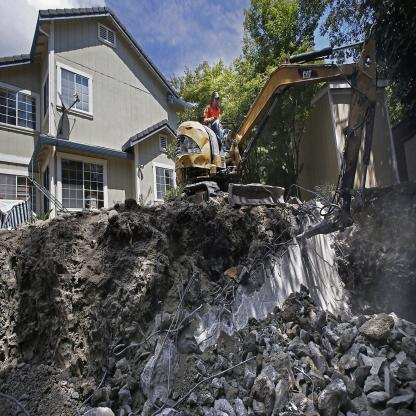rebar: (214, 179, 348, 332), (110, 274, 207, 411), (176, 354, 258, 403), (0, 388, 27, 416)
